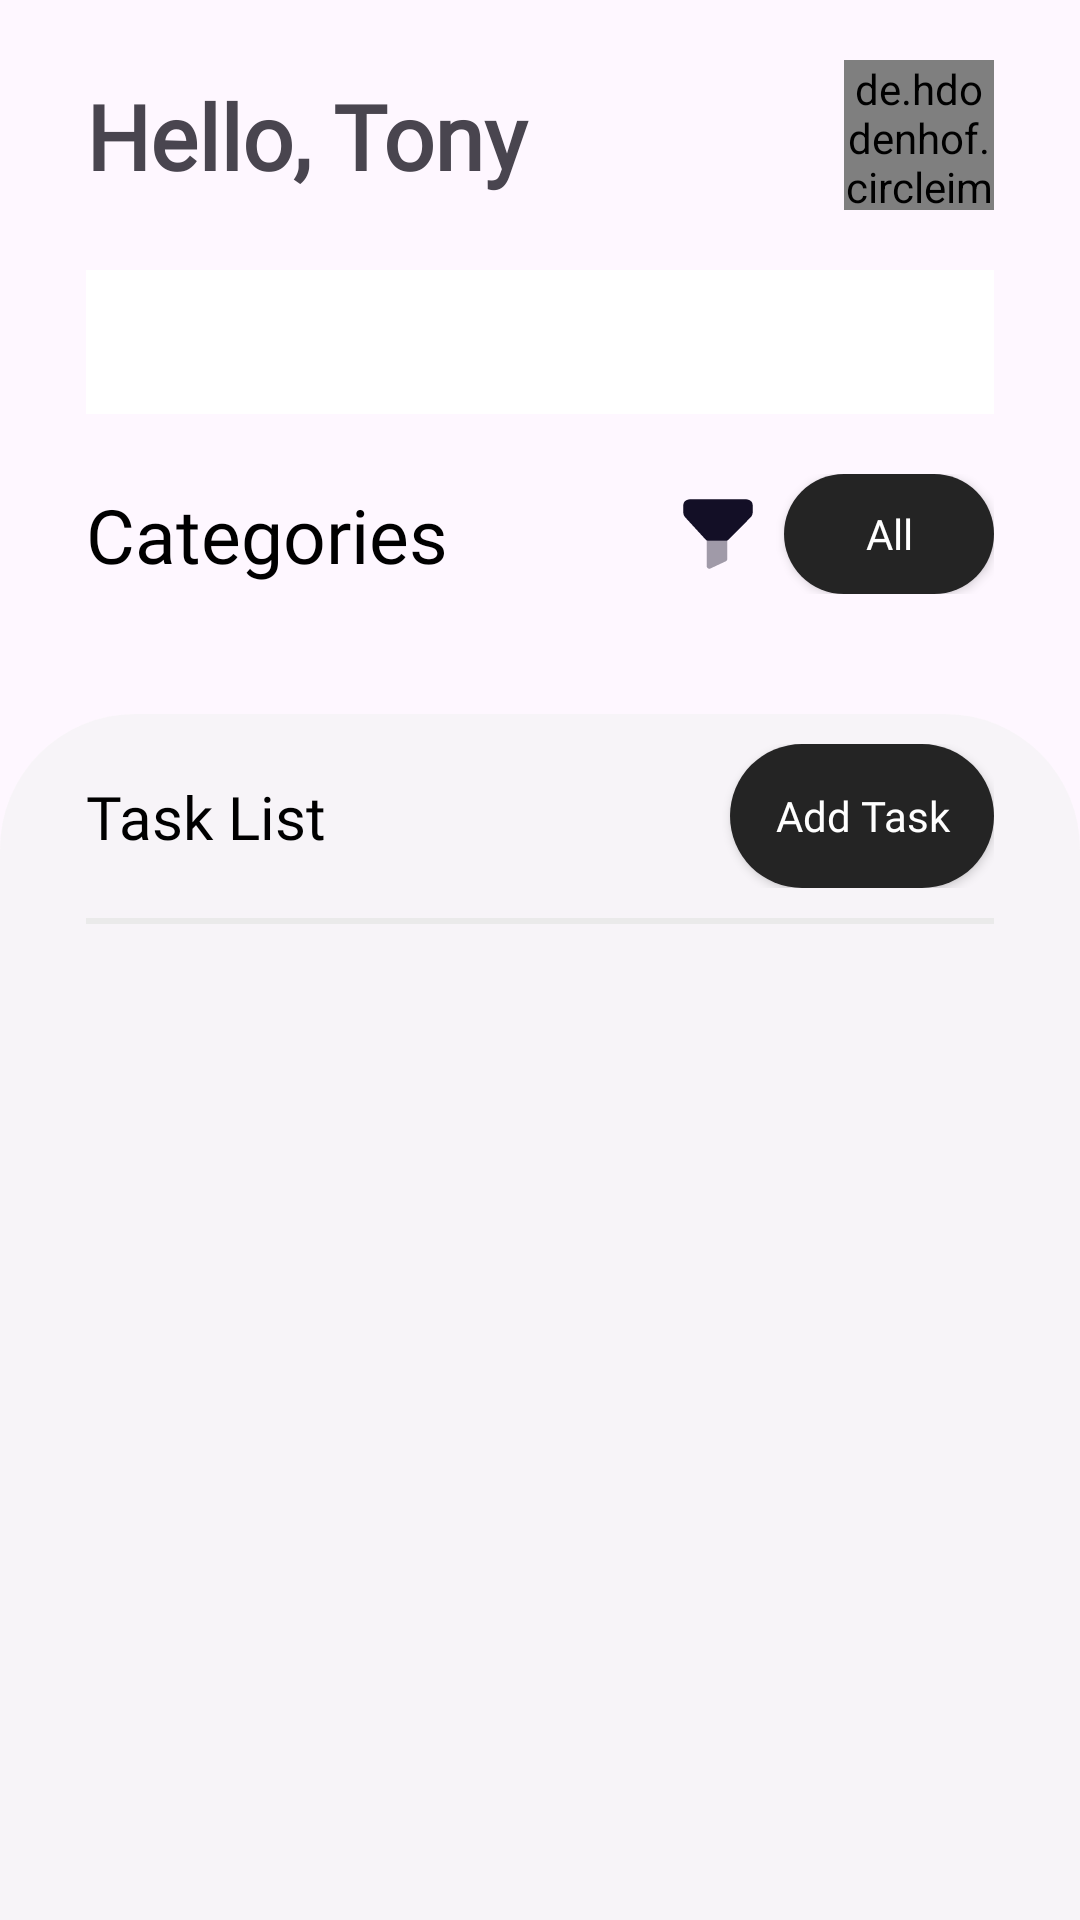

Named icons in this screenshot (1080×1920) and their centers, [x,y]:
filter: [718,534]
